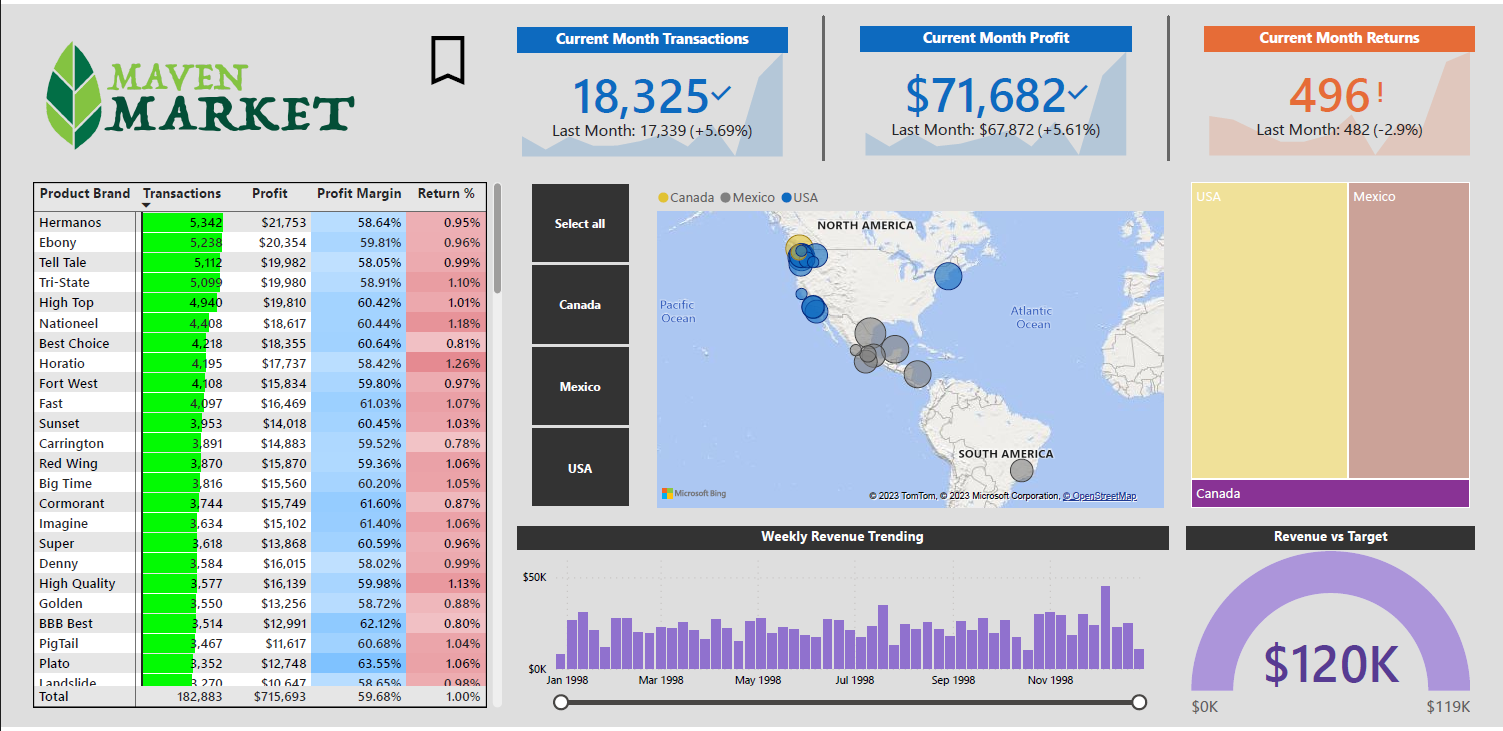

The dashboard page shown, as its layout file describes it:
{"tool":"powerbi","page":{"name":"Topline Performance","canvas":[1500,720],"ordinal":0},"visuals":[{"type":"image","box":[26.5,22.9,341.3,132.7],"z":1000},{"type":"pivotTable","fields":{"Rows":["Products.product_brand"],"Values":["Measures Table (E) for DAX.Total Transactions","Measures Table (E) for DAX.Total Profit","Measures Table (E) for DAX.Profit Margin","Measures Table (E) for DAX.Return Rate"]},"box":[26.5,172.5,477.6,534.3],"z":2000},{"type":"kpi","title":"Current Month Transactions","fields":{"Indicator":["Measures Table (E) for DAX.Total Transactions"],"Goal":["Measures Table (E) for DAX.Last Month Transactions"],"TrendLine":["Calendar.Start of Month"]},"box":[515,22.9,270,132.7],"z":3000},{"type":"shape","box":[803.4,11.1,36.2,144.7],"z":4000},{"type":"kpi","title":"Current Month Profit","fields":{"TrendLine":["Calendar.Start of Month"],"Indicator":["Measures Table (E) for DAX.Total Profit"],"Goal":["Measures Table (E) for DAX.Last Month Profit"]},"box":[858.1,21.8,270,132.7],"z":5000},{"type":"shape","box":[1146.6,11.1,36.2,144.7],"z":6000},{"type":"kpi","title":"Current Month Returns","fields":{"TrendLine":["Calendar.Start of Month"],"Indicator":["Measures Table (E) for DAX.Total Returns"],"Goal":["Measures Table (E) for DAX.Last Month Returns"]},"box":[1201.2,21.7,270.2,132.7],"z":7000},{"type":"map","fields":{"Series":["Stores.store_country"],"Category":["Stores.store_city"],"Size":["Measures Table (E) for DAX.Total Transactions"]},"box":[650.1,172.5,515,335.3],"z":8000},{"type":"slicer","fields":{"Values":["Stores.store_country"]},"box":[504.1,172.5,145.9,335.3],"z":9000},{"type":"treemap","fields":{"Group":["Stores.store_country","Stores.store_state","Stores.store_city"],"Values":["Measures Table (E) for DAX.Total Transactions"]},"box":[1183.1,172.5,288.2,335.3],"z":10000},{"type":"gauge","title":"Revenue vs Target","fields":{"Y":["Measures Table (E) for DAX.Total Revenue"],"MaxValue":["Measures Table (E) for DAX.Revenue Target"]},"box":[1183.1,521,288.2,199],"z":11000},{"type":"columnChart","title":"Weekly Revenue Trending","fields":{"Category":["Calendar.Start of Week"],"Y":["Measures Table (E) for DAX.Total Revenue"]},"box":[515,521,650.1,185.7],"z":12000},{"type":"actionButton","box":[416.1,21.7,60.3,66.3],"z":13000}]}

Visuals, with their boxes in screenshot pixels (x1, y1, x2, y2), scaled from the page's 1500x720 canvas onto the 1503x731 screenshot:
image: pyautogui.locateOnScreen(27, 23, 369, 158)
pivotTable - Products.product_brand x Measures Table (E) for DAX.Total Transactions: pyautogui.locateOnScreen(27, 175, 505, 718)
"Current Month Transactions" kpi: pyautogui.locateOnScreen(516, 23, 787, 158)
shape: pyautogui.locateOnScreen(805, 11, 841, 158)
"Current Month Profit" kpi: pyautogui.locateOnScreen(860, 22, 1130, 157)
shape: pyautogui.locateOnScreen(1149, 11, 1185, 158)
"Current Month Returns" kpi: pyautogui.locateOnScreen(1204, 22, 1474, 157)
map - Stores.store_country x Stores.store_city: pyautogui.locateOnScreen(651, 175, 1167, 516)
slicer - Stores.store_country: pyautogui.locateOnScreen(505, 175, 651, 516)
treemap - Stores.store_country x Stores.store_state: pyautogui.locateOnScreen(1185, 175, 1474, 516)
"Revenue vs Target" gauge: pyautogui.locateOnScreen(1185, 529, 1474, 730)
"Weekly Revenue Trending" columnChart: pyautogui.locateOnScreen(516, 529, 1167, 717)
actionButton: pyautogui.locateOnScreen(417, 22, 477, 89)
